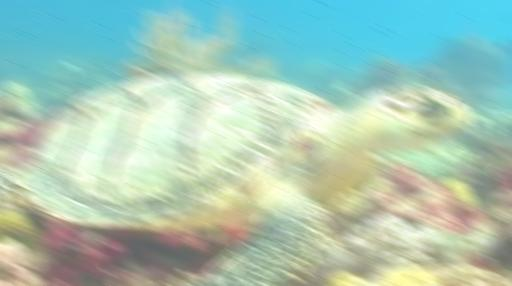Fish: (0, 75, 470, 285)
